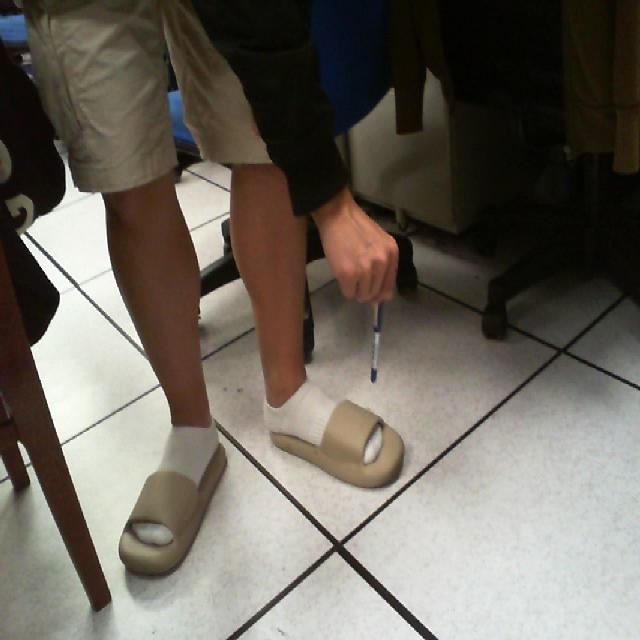Pen: (358, 255, 406, 412)
